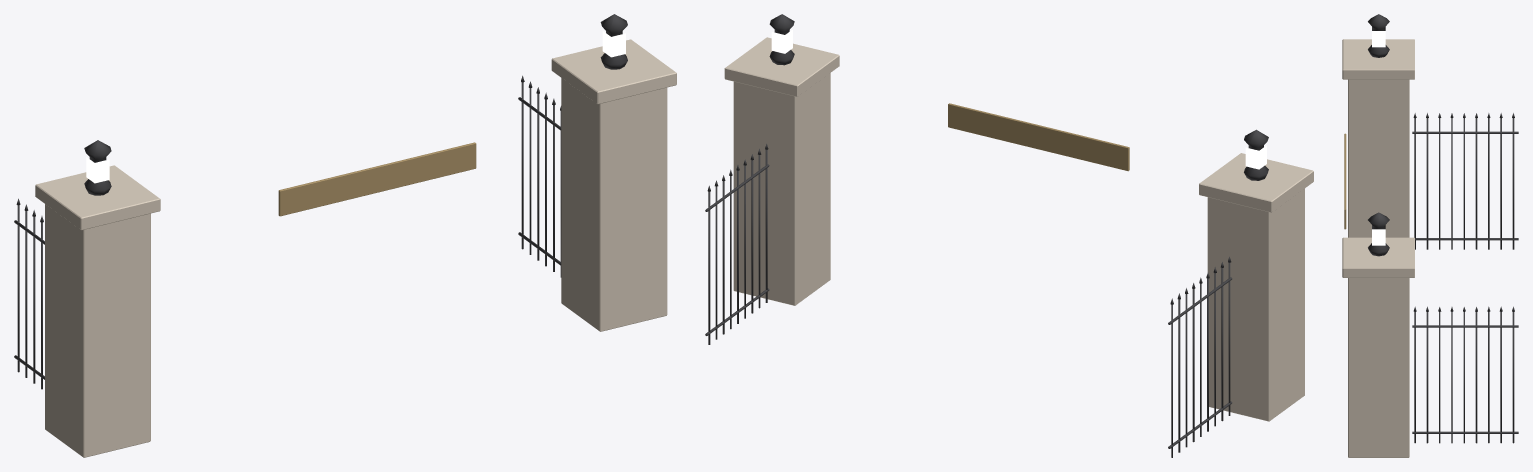
File: entrance_gates.glb
3 views of the same model, side by side, from view 1: azimuth 30°, elevation 25°; view 2: azimuth 150°, elevation 25°; view 3: azimuth 270°, elevation 25° (orthographic). The views are drawn at different scales.
Parts seen in each view (by area): view 1: entrance_gates; view 2: entrance_gates; view 3: entrance_gates.
Boxes of the visible parts, left/top/right/bottom form: entrance_gates: left=14, top=14, right=676, bottom=457; entrance_gates: left=705, top=14, right=1313, bottom=457; entrance_gates: left=1342, top=14, right=1518, bottom=457.
Bounding box in the file's own units: 9.7 × 4.6 × 3.15.
